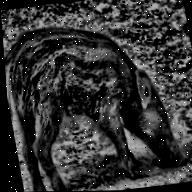boar: (1, 4, 185, 192)
